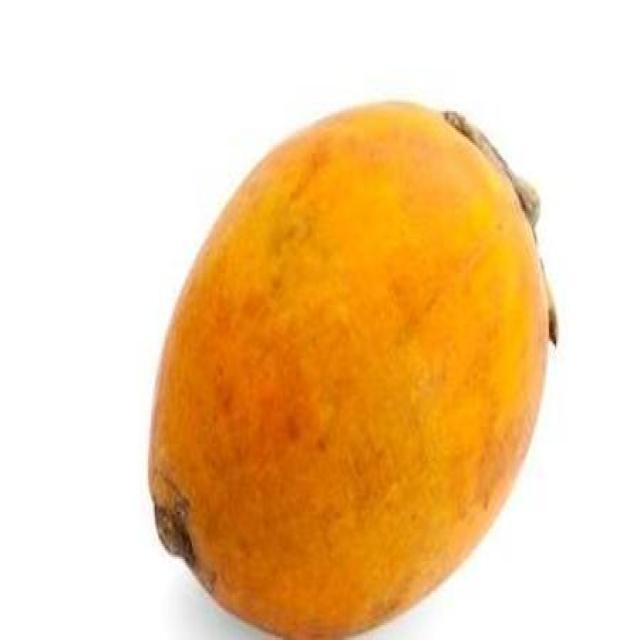good: (146, 102, 555, 638)
